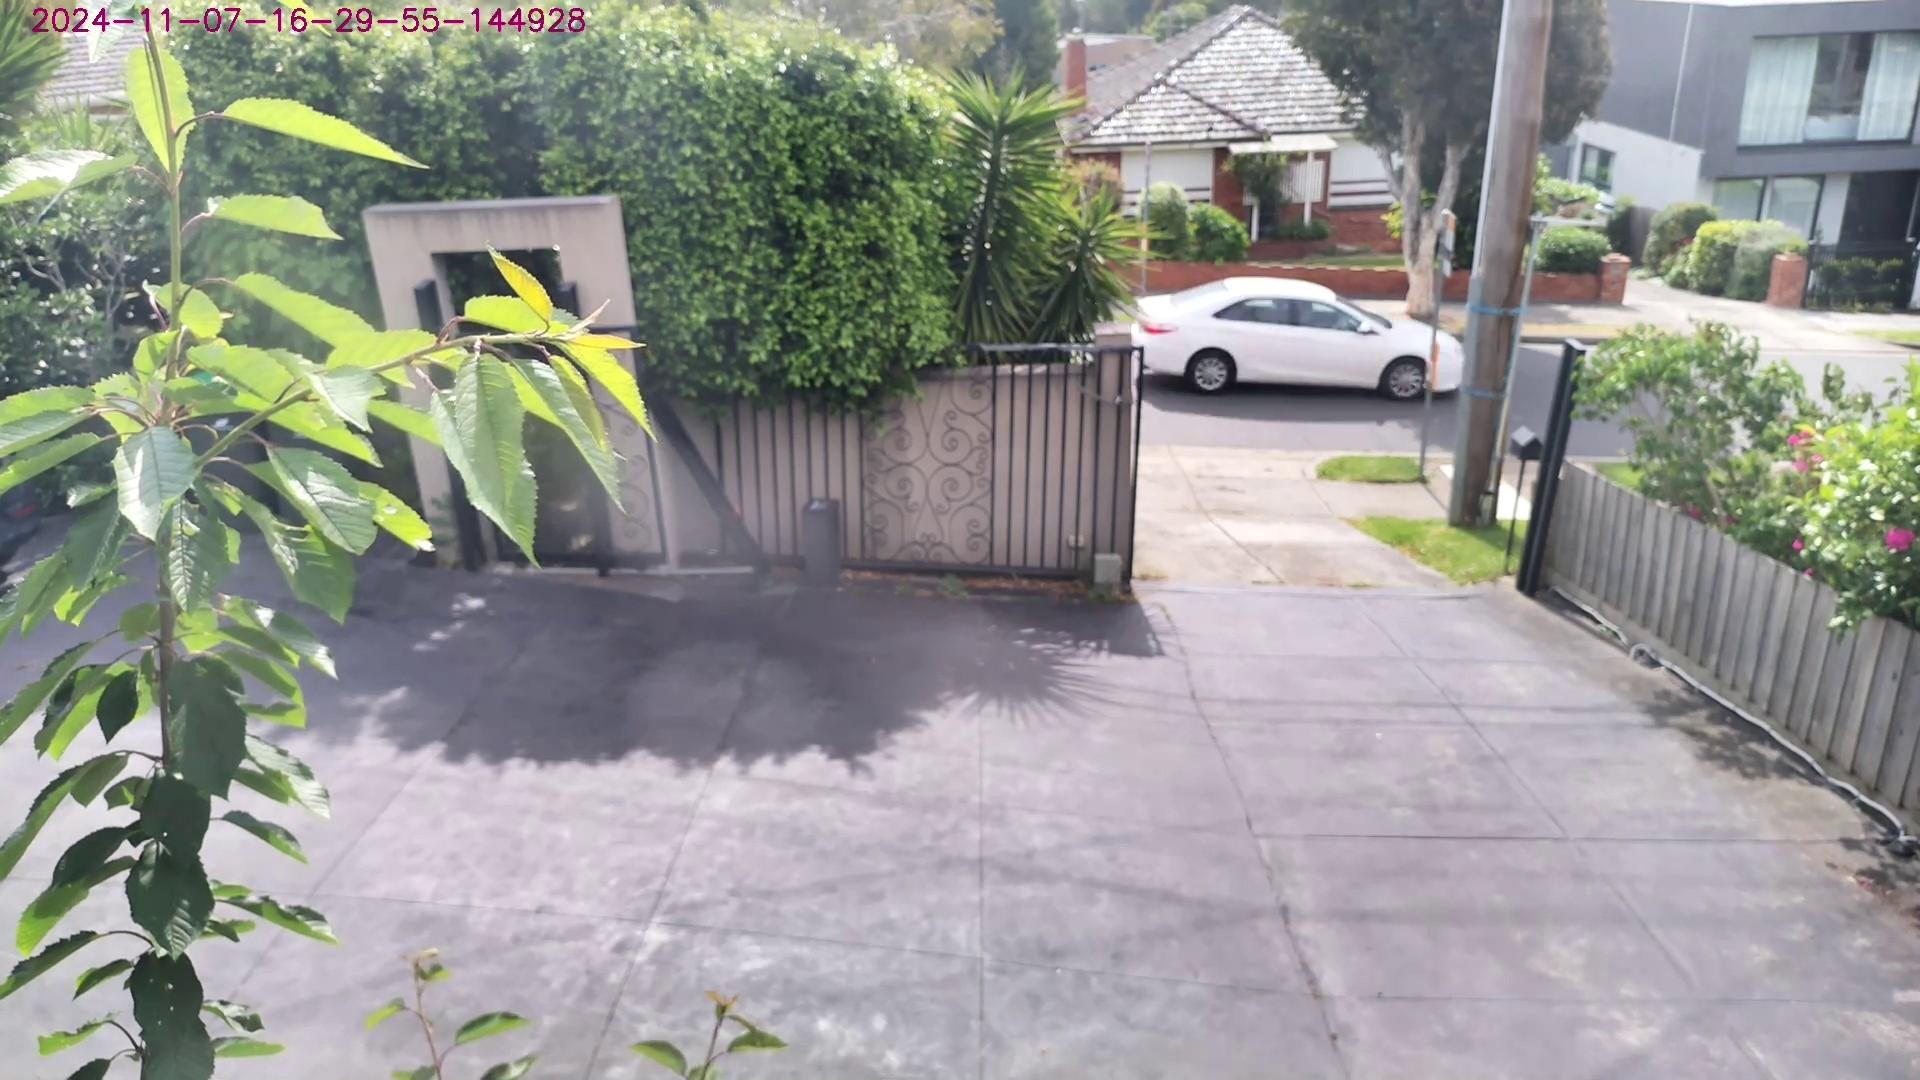VEHICLE TYPE 1: (1127, 274, 1466, 404)
wheel: (1185, 349, 1236, 396), (1379, 357, 1427, 401)
